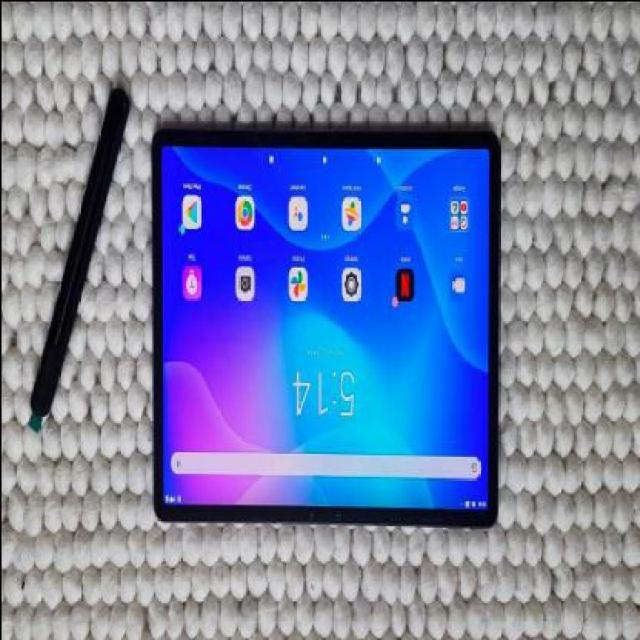tablet: (146, 113, 510, 554)
